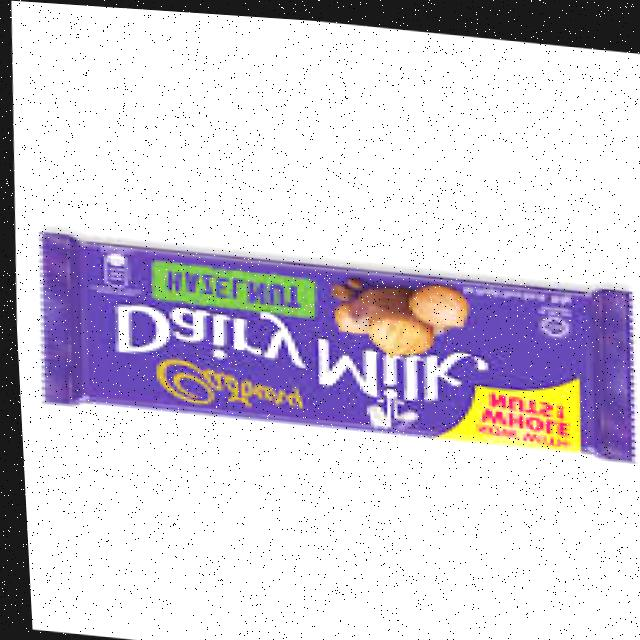cadbury: (25, 229, 640, 457)
